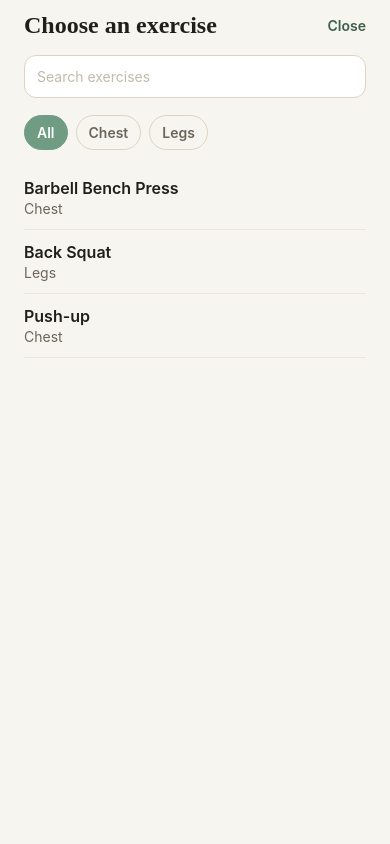
it: ExercisePickerScreen › filters by search text
Type "squat" into the field with test id "exercise-picker-search" at (195, 76), box 24,55 -> 366,98
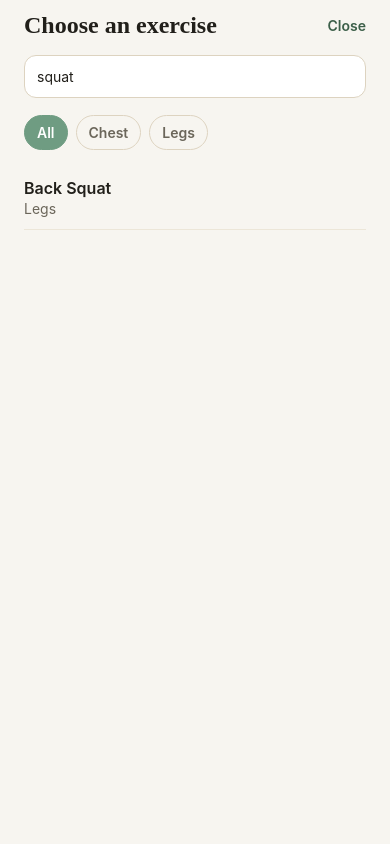
Expected: the element with test id "exercise-picker-item-ex-2" is shown, 24,166 -> 366,230
Result: the element with test id "exercise-picker-item-ex-1" is gone
